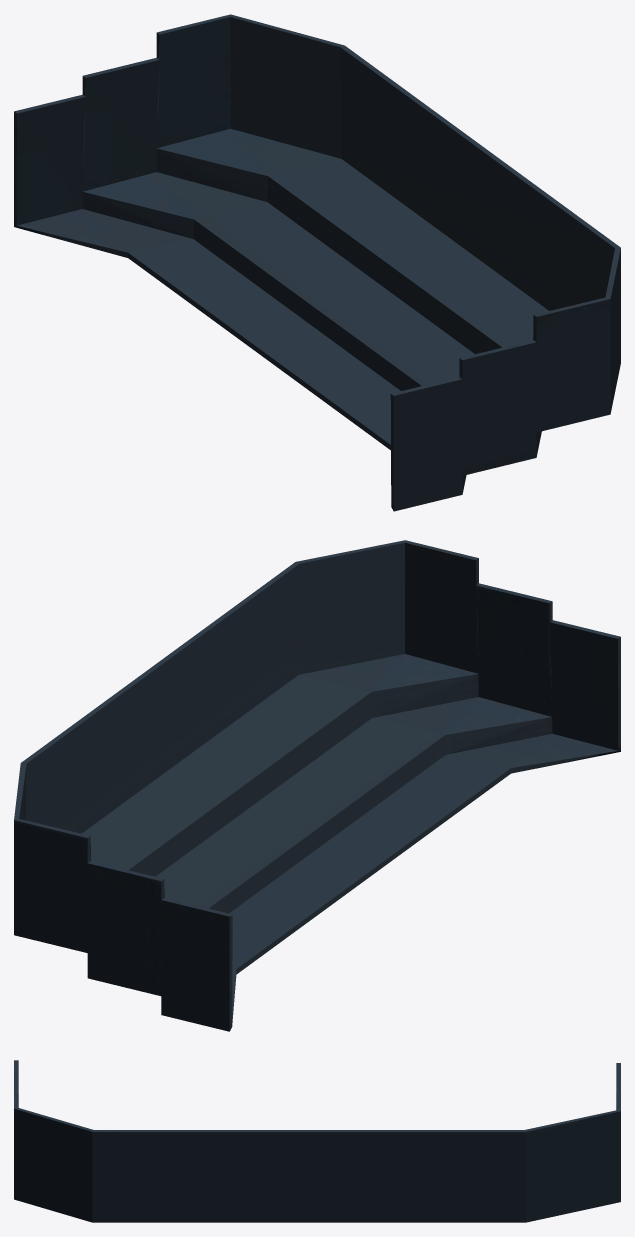
The model's file is c-bleachers3.dae.
3 views of the same model, one above another, from view 1: azimuth 30°, elevation 25°; view 2: azimuth 150°, elevation 25°; view 3: azimuth 270°, elevation 25° (orthographic). The views are drawn at different scales.
Parts seen in each view (by area): view 1: Plane; view 2: Plane; view 3: Plane.
Boxes of the visible parts, box(x1,y1,x2,y2) form: Plane: box(14, 14, 620, 511); Plane: box(14, 540, 620, 1031); Plane: box(14, 1060, 620, 1222).
Bounding box in the file's own units: 1.16 × 2.8 × 0.6386.
1 material, 1 textured.
